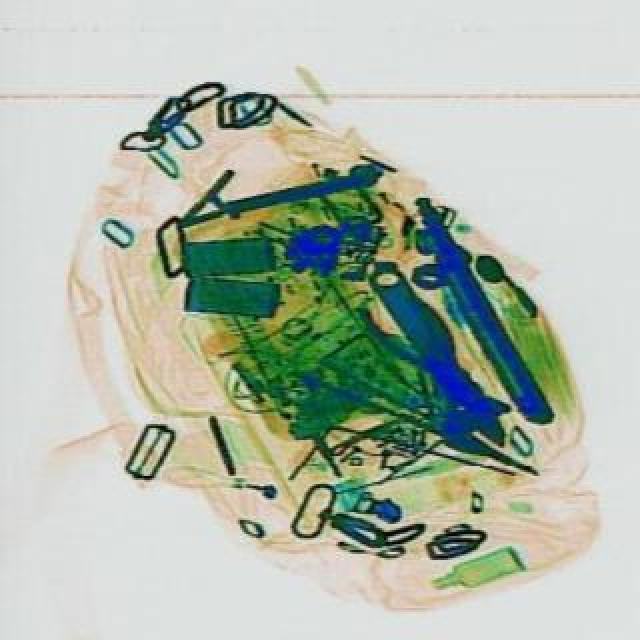knife: (294, 354, 542, 484)
scissors: (342, 248, 520, 458)
wrench: (346, 270, 528, 462)
